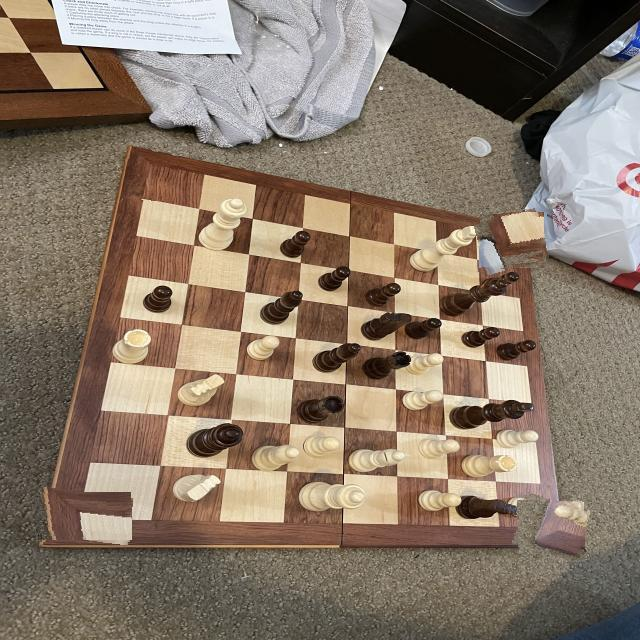chess-table-corners: (37, 490, 132, 542), (514, 496, 587, 558), (477, 212, 547, 272), (124, 136, 179, 201)
